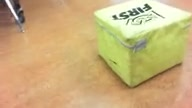cube: (93, 1, 192, 89)
